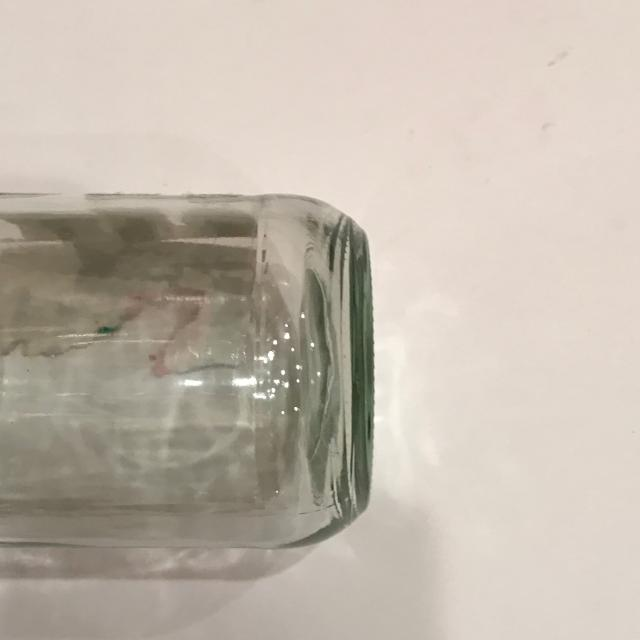glass: (1, 191, 376, 551)
